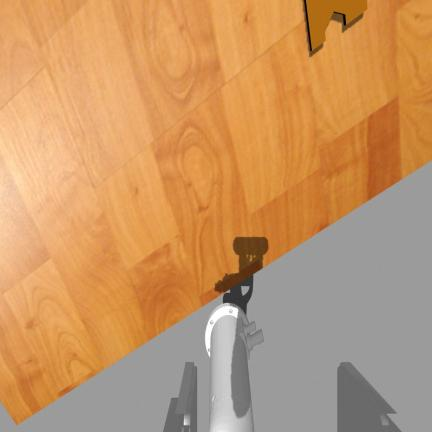cheese: (304, 0, 367, 50)
